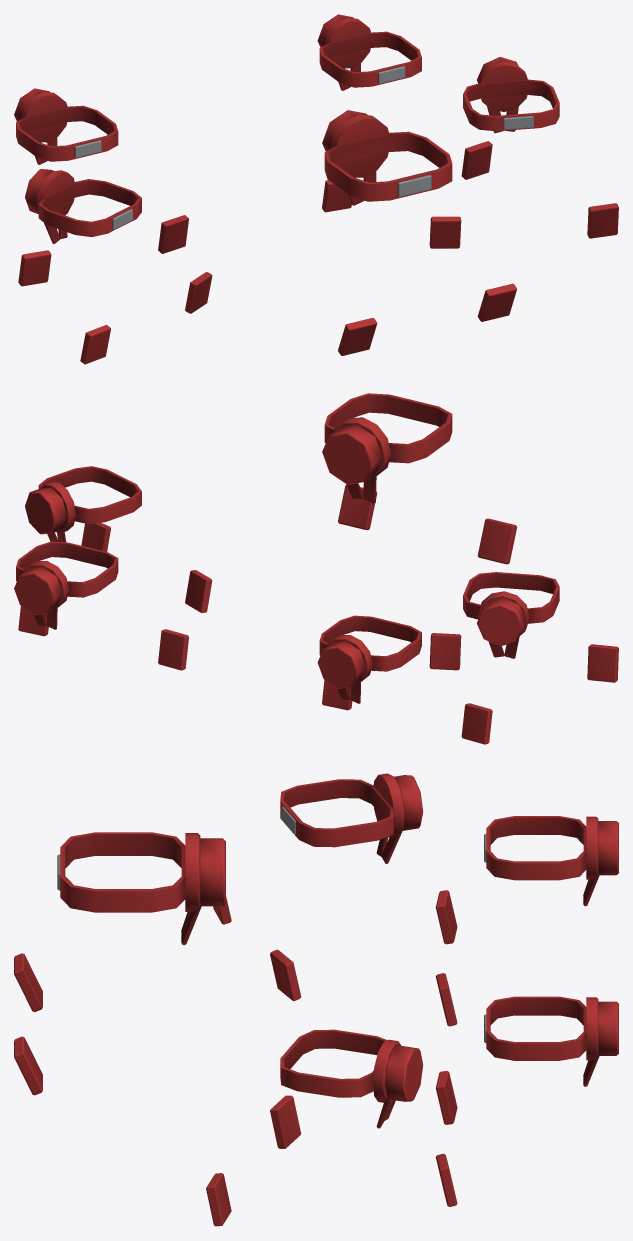
Rendered from tub-ninjas-lod1.glb.
3 views of the same model, one above another, from view 1: azimuth 30°, elevation 25°; view 2: azimuth 150°, elevation 25°; view 3: azimuth 270°, elevation 25° (orthographic). The views are drawn at different scales.
Parts seen in each view (by area): view 1: cap_hat, att3_hat, att0_hat, att1_hat, att2_hat, cap_arm_l_trim, cap_arm_r_trim, att2_arm_r_trim, att2_arm_l_trim, att1_arm_r_trim, att0_arm_l_trim, att1_arm_l_trim (+3 smaller); view 2: cap_hat, att0_hat, att1_hat, att3_hat, att2_hat, cap_arm_r_trim, att3_arm_r_trim, att3_arm_l_trim, cap_arm_l_trim, att1_arm_r_trim, att0_arm_r_trim, att2_arm_r_trim (+3 smaller); view 3: cap_hat, att3_hat, att2_hat, att1_hat, att0_hat, att2_arm_r_trim, cap_arm_r_trim, cap_arm_l_trim, att3_arm_l_trim, att2_arm_l_trim, att1_arm_r_trim, att0_arm_r_trim.
Boxes of the visible parts, x1,y1,x2,y2 form: cap_hat: (322,110,452,205); att3_hat: (25,169,141,243); att0_hat: (317,14,421,90); att1_hat: (14,88,118,164); att2_hat: (463,57,559,133); cap_arm_l_trim: (477,283,516,321); cap_arm_r_trim: (338,318,377,355); att2_arm_r_trim: (429,216,461,248); att2_arm_l_trim: (587,203,618,238); att1_arm_r_trim: (18,250,51,286); att0_arm_l_trim: (461,141,492,179); att1_arm_l_trim: (158,215,188,253); cap_hat: (322,393,452,503); att0_hat: (14,541,118,629); att1_hat: (317,615,421,703); att3_hat: (463,572,559,658); att2_hat: (25,466,141,542); cap_arm_r_trim: (477,518,517,564); att3_arm_r_trim: (587,644,618,682); att3_arm_l_trim: (429,633,461,670); cap_arm_l_trim: (338,485,377,530); att1_arm_r_trim: (461,703,492,744); att0_arm_r_trim: (158,629,188,670); att2_arm_r_trim: (185,570,212,612); cap_hat: (57,832,225,944); att3_hat: (280,773,423,863); att2_hat: (280,1029,423,1128); att1_hat: (484,816,618,906); att0_hat: (484,996,618,1086); att2_arm_r_trim: (270,1095,301,1148); cap_arm_r_trim: (14,953,42,1011); cap_arm_l_trim: (14,1036,42,1095); att3_arm_l_trim: (270,949,301,1001); att2_arm_l_trim: (206,1173,231,1226); att1_arm_r_trim: (435,890,457,944); att0_arm_r_trim: (435,1071,457,1124).
Size of the model in its own units: 2.19 by 0.7446 by 1.76.
